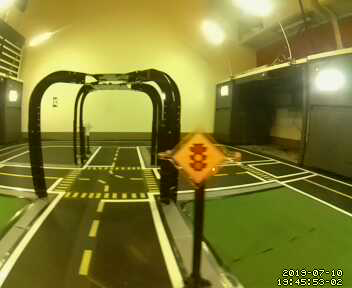Traffic light sign: (175, 131, 224, 185)
